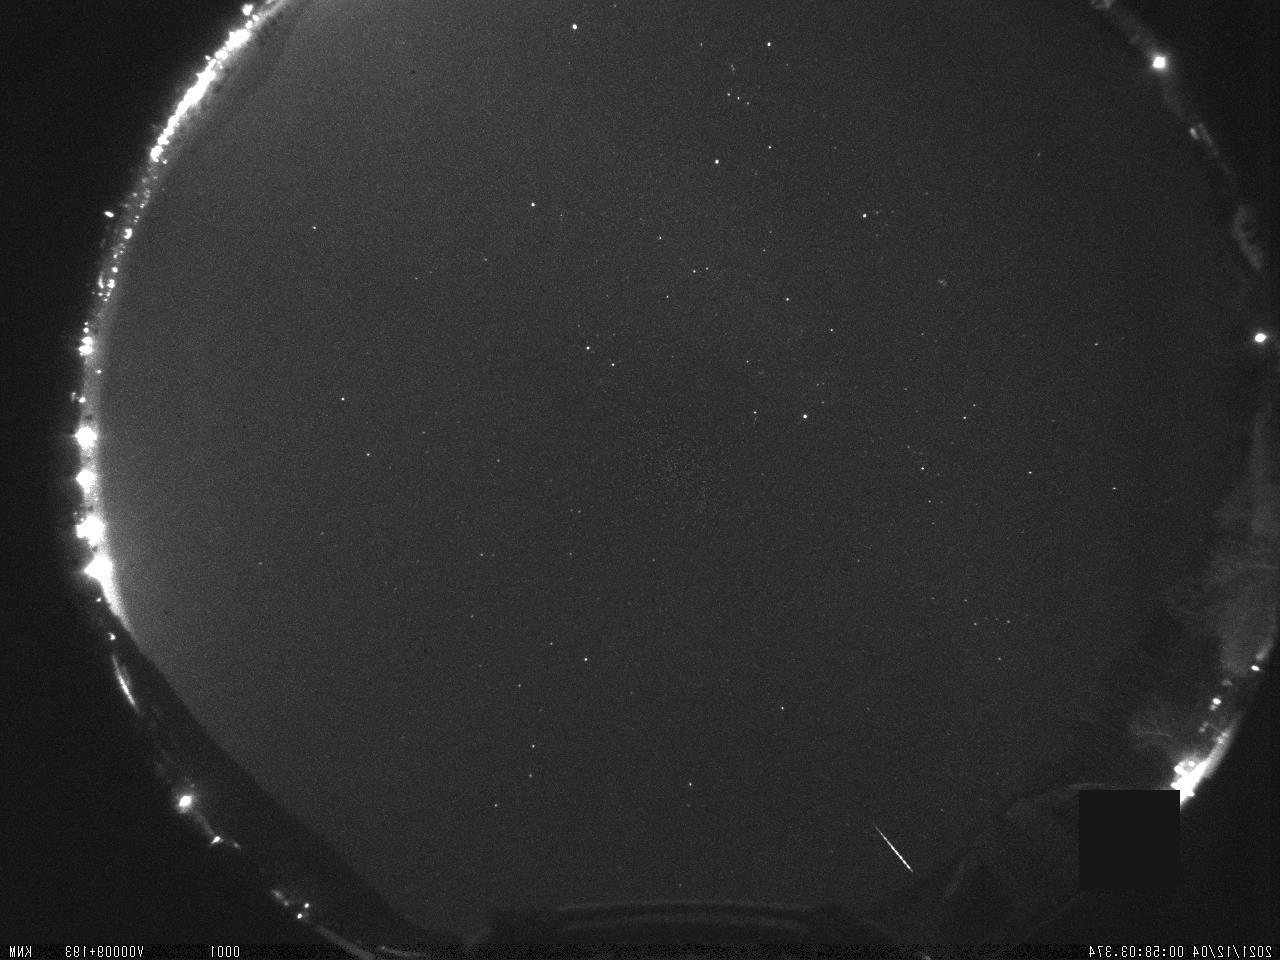meteor: (850, 807, 925, 881)
